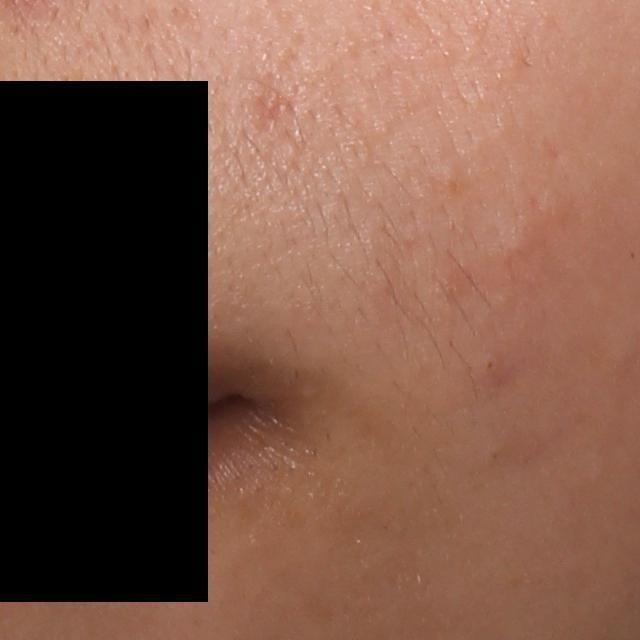comedo: (497, 223, 540, 262)
